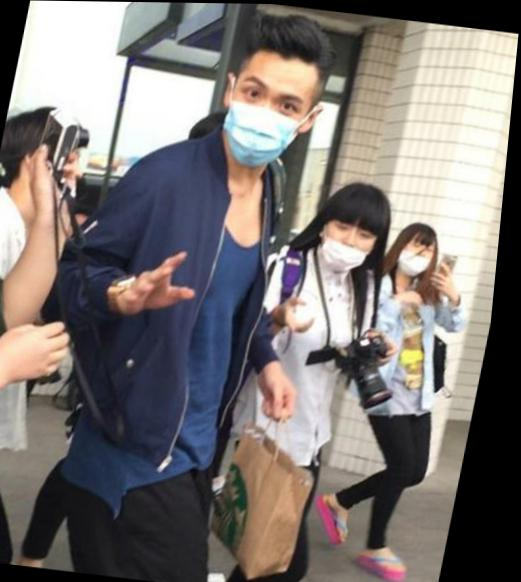OK: (214, 67, 319, 170)
WRONG: (319, 209, 388, 274), (398, 235, 443, 278)
